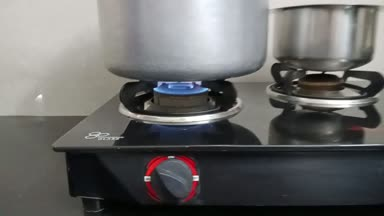flame_gas_on: (106, 71, 253, 208)
